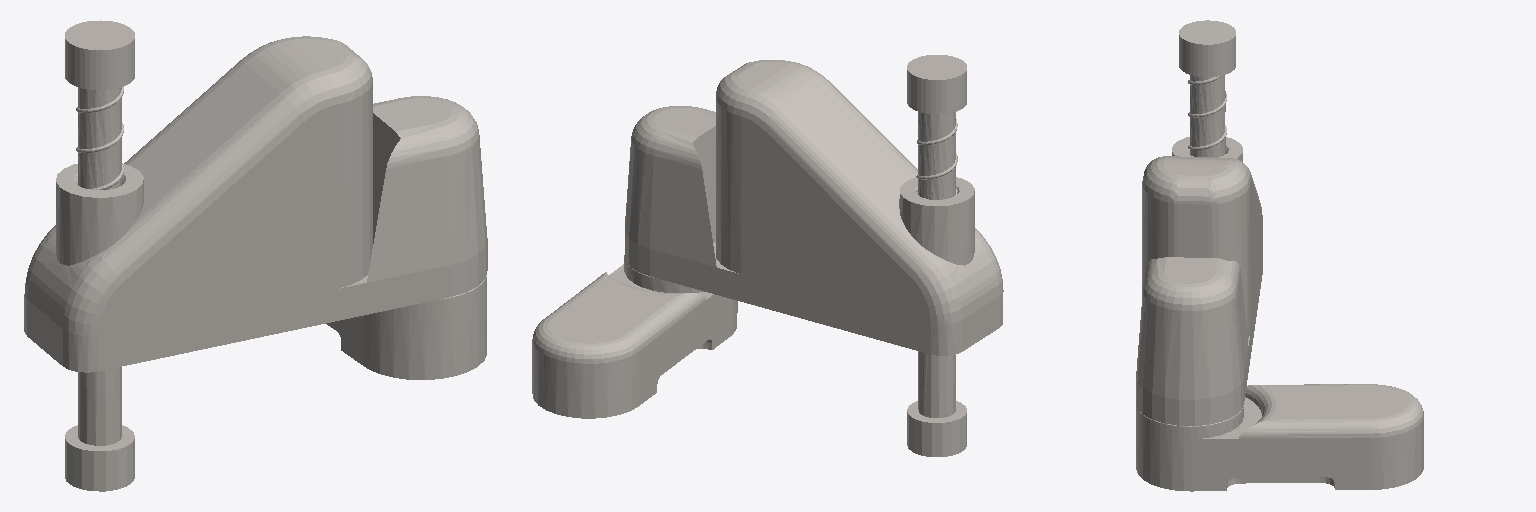
The robot description file, URDF, robot "TayGapUet":
<?xml version="1.0" encoding="utf-8"?>
<!-- This URDF was automatically created by SolidWorks to URDF Exporter! Originally created by [author] ([email redacted]) 
     Commit Version: 1.6.0-1-g15f4949  Build Version: 1.6.7594.29634
     For more information, please see http://wiki.ros.org/sw_urdf_exporter -->
<robot
  name="TayGapUet">
  <link
    name="base_link">
    <inertial>
      <origin
        xyz="0.15509 0.08915 0.10655"
        rpy="0 0 0" />
      <mass
        value="27.154" />
      <inertia
        ixx="0.12831"
        ixy="-0.00013182"
        ixz="-1.115E-05"
        iyy="0.11923"
        iyz="0.00027715"
        izz="0.096206" />
    </inertial>
    <visual>
      <origin
        xyz="0 0 0"
        rpy="0 0 0" />
      <geometry>
        <mesh
          filename="package://TayGapUet/meshes/base_link.STL" />
      </geometry>
      <material
        name="">
        <color
          rgba="0.77647 0.75686 0.73725 1" />
      </material>
    </visual>
    <collision>
      <origin
        xyz="0 0 0"
        rpy="0 0 0" />
      <geometry>
        <mesh
          filename="package://TayGapUet/meshes/base_link.STL" />
      </geometry>
    </collision>
  </link>
  <link
    name="link_1">
    <inertial>
      <origin
        xyz="3.6563E-09 0.061786 0.15491"
        rpy="0 0 0" />
      <mass
        value="40.19" />
      <inertia
        ixx="0.50815"
        ixy="-1.6635E-09"
        ixz="8.2183E-09"
        iyy="0.50975"
        iyz="-0.033417"
        izz="0.12975" />
    </inertial>
    <visual>
      <origin
        xyz="0 0 0"
        rpy="0 0 0" />
      <geometry>
        <mesh
          filename="package://TayGapUet/meshes/link_1.STL" />
      </geometry>
      <material
        name="">
        <color
          rgba="0.77647 0.75686 0.73725 1" />
      </material>
    </visual>
    <collision>
      <origin
        xyz="0 0 0"
        rpy="0 0 0" />
      <geometry>
        <mesh
          filename="package://TayGapUet/meshes/link_1.STL" />
      </geometry>
    </collision>
  </link>
  <joint
    name="joint_1"
    type="continuous">
    <origin
      xyz="0.15509 -0.10565 0.14236"
      rpy="1.5708 0 -0.15434" />
    <parent
      link="base_link" />
    <child
      link="link_1" />
    <axis
      xyz="0 1 0" />
  </joint>
  <link
    name="link_2">
    <inertial>
      <origin
        xyz="-1.1835E-08 0.12413 0.20373"
        rpy="0 0 0" />
      <mass
        value="118.94" />
      <inertia
        ixx="2.7618"
        ixy="8.7235E-06"
        ixz="-4.278E-07"
        iyy="2.3197"
        iyz="0.17283"
        izz="0.86325" />
    </inertial>
    <visual>
      <origin
        xyz="0 0 0"
        rpy="0 0 0" />
      <geometry>
        <mesh
          filename="package://TayGapUet/meshes/link_2.STL" />
      </geometry>
      <material
        name="">
        <color
          rgba="0.77647 0.75686 0.73725 1" />
      </material>
    </visual>
    <collision>
      <origin
        xyz="0 0 0"
        rpy="0 0 0" />
      <geometry>
        <mesh
          filename="package://TayGapUet/meshes/link_2.STL" />
      </geometry>
    </collision>
  </link>
  <joint
    name="joint_2"
    type="continuous">
    <origin
      xyz="0 0.094021 0.25"
      rpy="0 -1.5409 0" />
    <parent
      link="link_1" />
    <child
      link="link_2" />
    <axis
      xyz="0 1 0" />
  </joint>
  <link
    name="link_3">
    <inertial>
      <origin
        xyz="4.3636E-08 0.077759 -3.2267E-07"
        rpy="0 0 0" />
      <mass
        value="9.6164" />
      <inertia
        ixx="0.23881"
        ixy="-1.1999E-05"
        ixz="-5.2383E-08"
        iyy="0.0041209"
        iyz="1.1823E-05"
        izz="0.23881" />
    </inertial>
    <visual>
      <origin
        xyz="0 0 0"
        rpy="0 0 0" />
      <geometry>
        <mesh
          filename="package://TayGapUet/meshes/link_3.STL" />
      </geometry>
      <material
        name="">
        <color
          rgba="0.77647 0.75686 0.73725 1" />
      </material>
    </visual>
    <collision>
      <origin
        xyz="0 0 0"
        rpy="0 0 0" />
      <geometry>
        <mesh
          filename="package://TayGapUet/meshes/link_3.STL" />
      </geometry>
    </collision>
  </link>
  <joint
    name="joint_3"
    type="continuous">
    <origin
      xyz="0 0 0.40562"
      rpy="3.1416 -0.25389 3.1416" />
    <parent
      link="link_2" />
    <child
      link="link_3" />
    <axis
      xyz="0 1 0" />
  </joint>
</robot>

--- Render facts (derived) ---
Views: 3 orthographic renders of the robot side by side, from view 1: azimuth 30°, elevation 25°; view 2: azimuth 150°, elevation 25°; view 3: azimuth 270°, elevation 25°.
Model TayGapUet with 4 links and 3 joints (3 continuous), rooted at base_link, posed all joints at 0.
Visible links, largest first — view 1: link_2, link_3, link_1; view 2: link_2, link_1, link_3; view 3: link_2, link_1, link_3.
Boxes of the visible links, box(x1,y1,x2,y2) form: link_2: box(24, 36, 487, 372); link_3: box(65, 20, 134, 491); link_1: box(326, 275, 486, 379); link_2: box(625, 60, 1003, 355); link_1: box(532, 255, 737, 418); link_3: box(907, 55, 966, 456); link_2: box(1136, 137, 1262, 425); link_1: box(1136, 384, 1423, 491); link_3: box(1179, 20, 1235, 156).
Size in the robot's own frame: 0.5518 by 0.3998 by 0.55 metres.
Meshes: 4 distinct files referenced, 3 mesh visuals loaded (3 binary STL); not drawn: 1 (reference not matched to a file when rendering).
